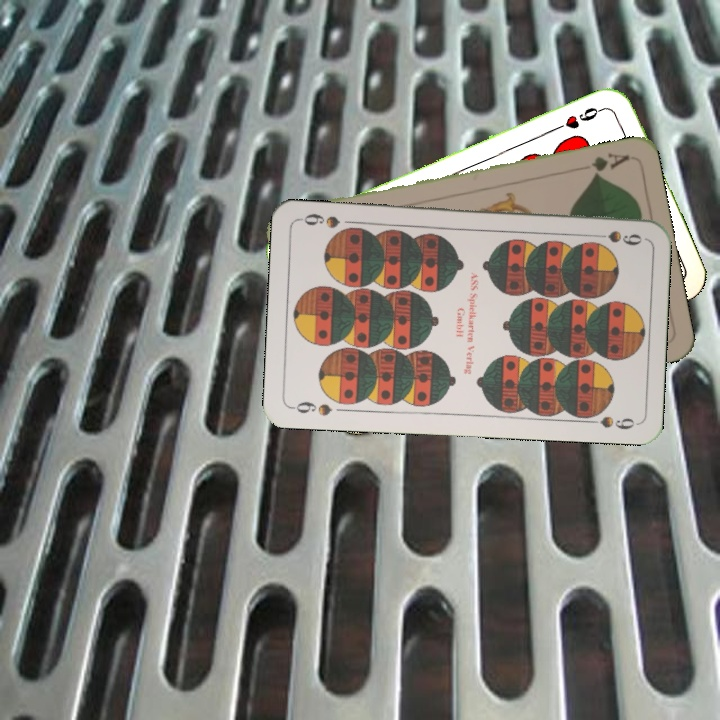GA: (587, 148, 632, 179)
H9: (553, 102, 610, 132)
S9: (586, 227, 645, 248), (288, 397, 335, 418)
